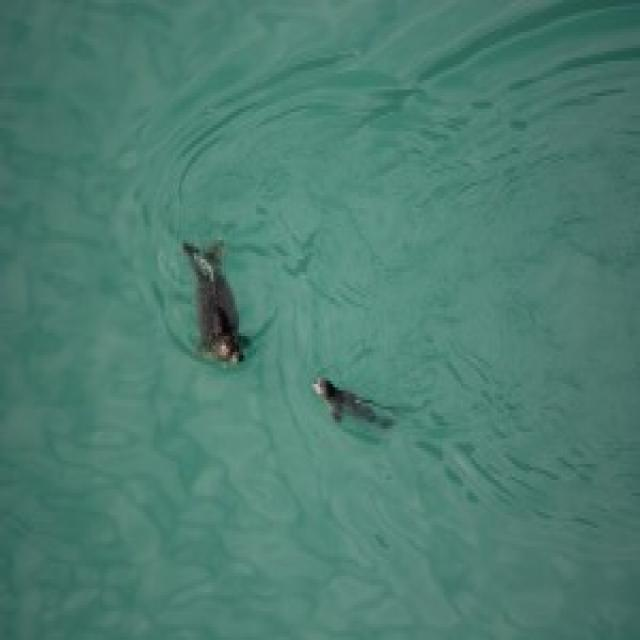Seal: (188, 208, 249, 386), (305, 363, 419, 437)
